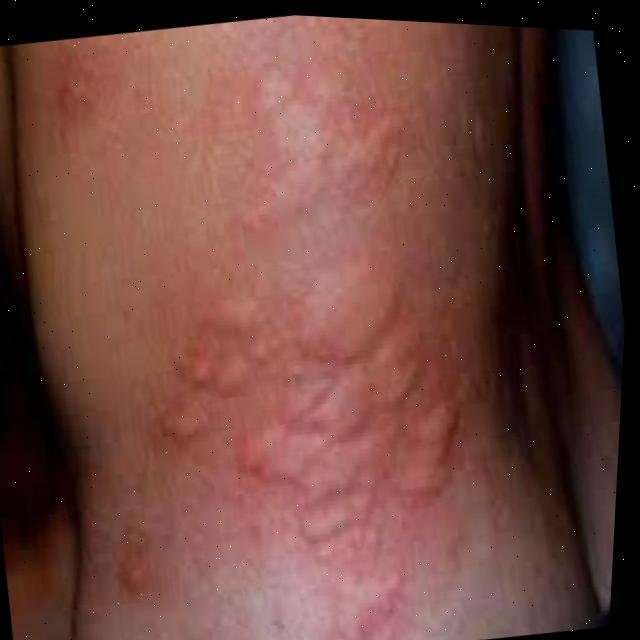Eczema: (123, 206, 484, 575)
